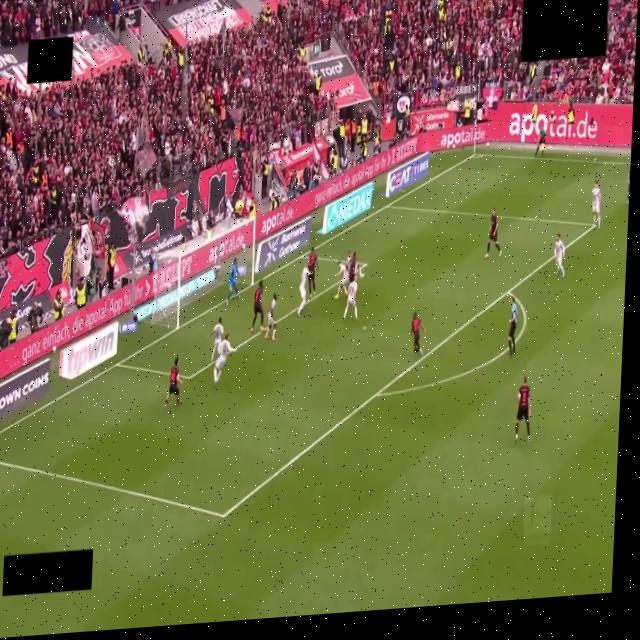player: (214, 334, 236, 383), (515, 376, 530, 442), (485, 209, 501, 258), (165, 358, 181, 406), (297, 265, 310, 317), (251, 281, 264, 332), (209, 318, 224, 360), (412, 312, 425, 355), (308, 247, 319, 297), (227, 259, 239, 304), (265, 294, 276, 341), (335, 262, 349, 298), (344, 282, 357, 319), (347, 253, 364, 281), (592, 181, 601, 228), (555, 234, 565, 276), (349, 253, 356, 282), (357, 262, 364, 277), (346, 252, 352, 266), (627, 170, 629, 203)
referee: (508, 297, 518, 356)
